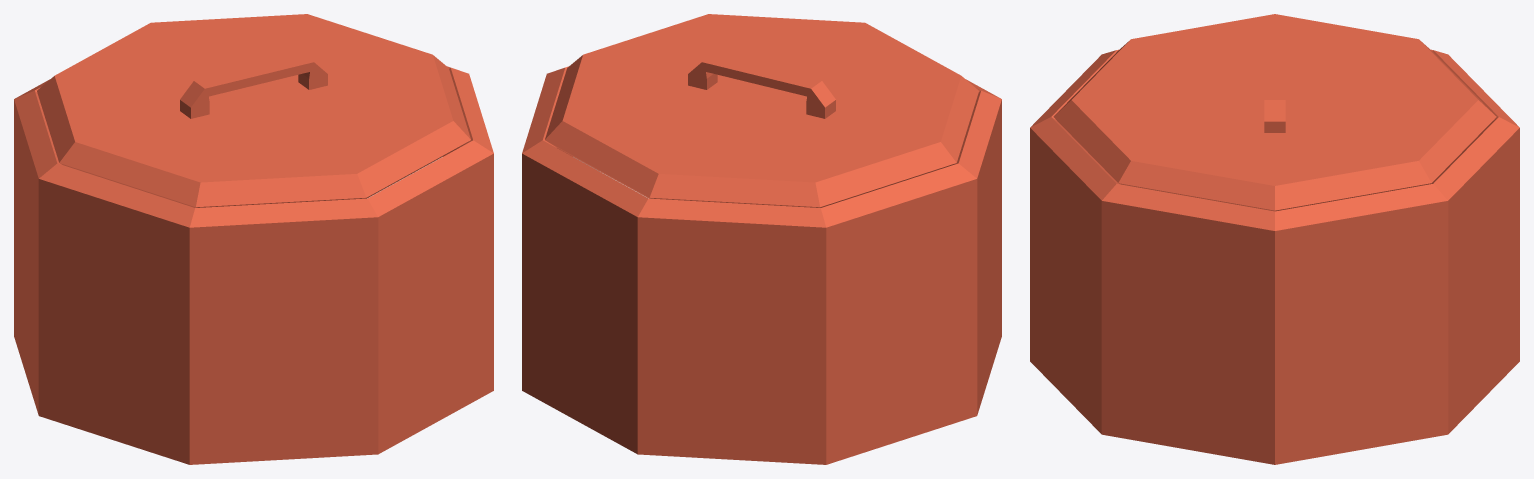
File: sugarjar.fbx
The picture shows the model from 3 angles, left to right: view 1: azimuth 30°, elevation 25°; view 2: azimuth 150°, elevation 25°; view 3: azimuth 270°, elevation 25°; orthographic projection.
Visible parts, largest first — view 1: Sugar Jar, Lid; view 2: Sugar Jar, Lid; view 3: Sugar Jar, Lid.
Boxes of the visible parts, x1,y1,x2,y2 form: Sugar Jar: (14, 66, 493, 464); Lid: (37, 14, 470, 207); Sugar Jar: (522, 66, 1001, 464); Lid: (545, 14, 978, 207); Sugar Jar: (1030, 49, 1519, 464); Lid: (1053, 14, 1496, 211).
Size of the model in its own units: 44.99 by 44.99 by 31.32.
Materials: 1 (1 with a texture image).
